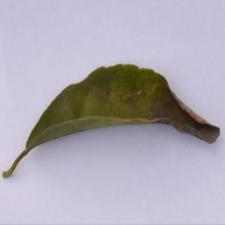Black: (135, 61, 224, 155)
